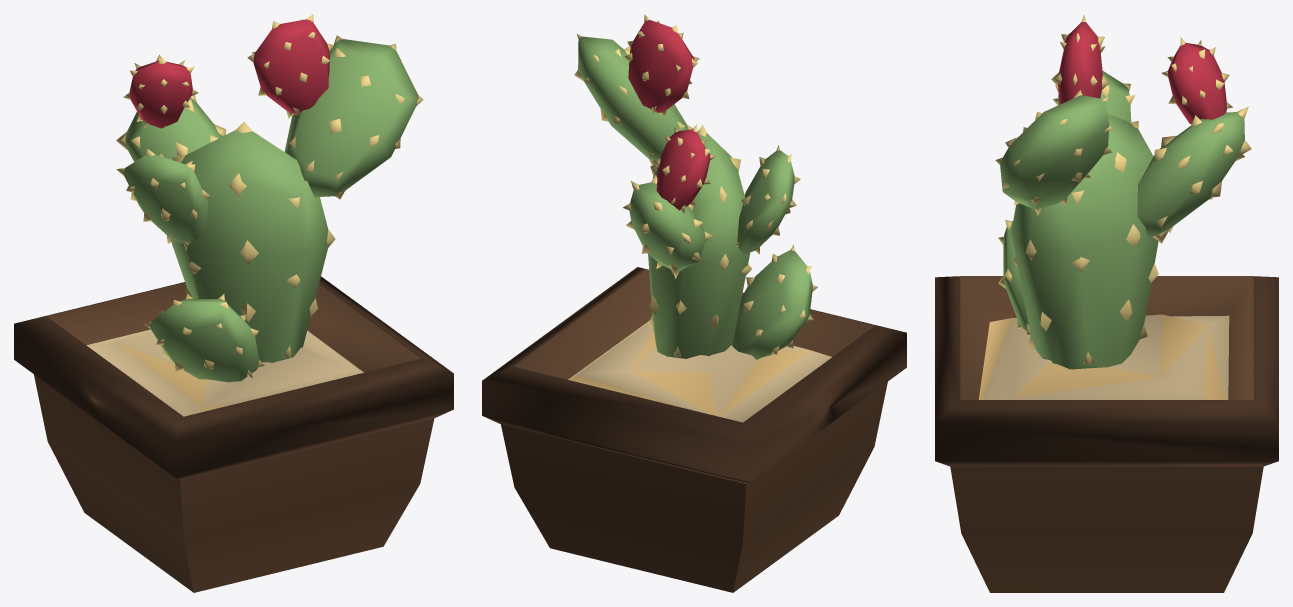
File: Plant11.glb
3 views of the same model, side by side, from view 1: azimuth 30°, elevation 25°; view 2: azimuth 150°, elevation 25°; view 3: azimuth 270°, elevation 25° (orthographic). The views are drawn at different scales.
Visible parts, largest first — view 1: Plant11; view 2: Plant11; view 3: Plant11.
Boxes of the visible parts, x1,y1,x2,y2 form: Plant11: (14,14,453,592); Plant11: (482,14,906,592); Plant11: (935,14,1278,592).
Bounding box in the file's own units: 0.5517 × 0.9414 × 0.5386.
Materials: 1 (1 with a texture image).
